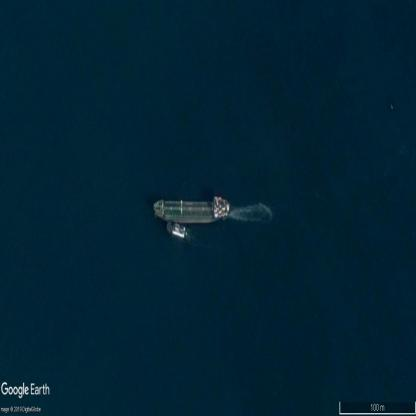ship: (152, 195, 230, 223), (168, 223, 191, 242)
